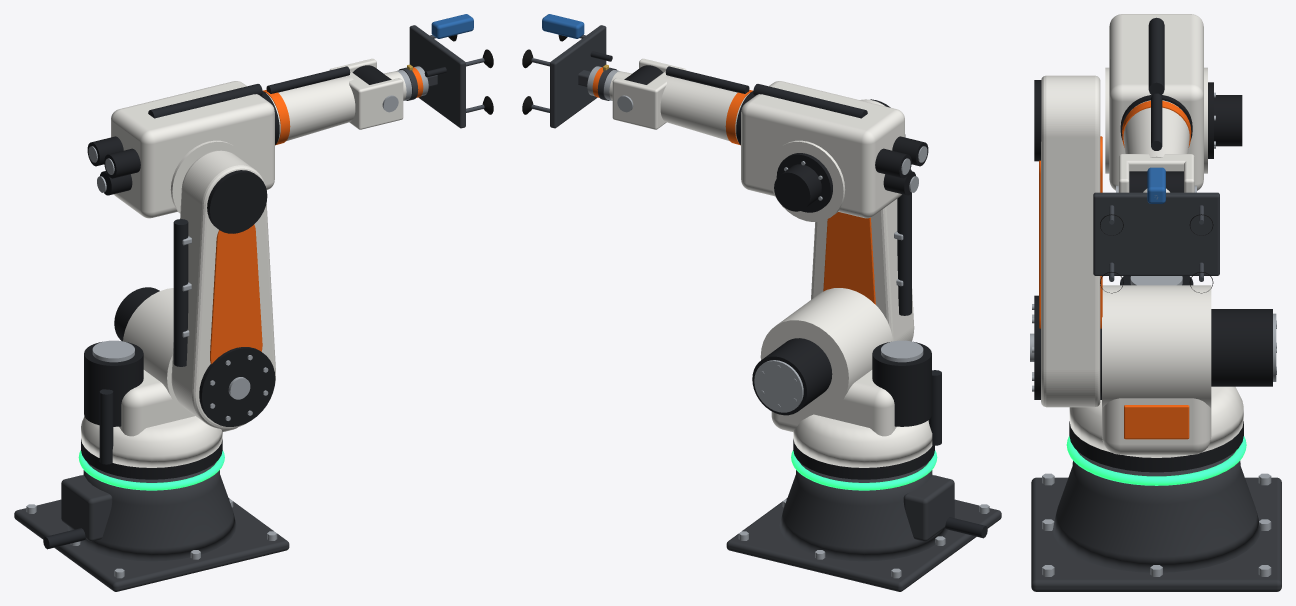
The model's file is robot_assembly.glb.
The picture shows the model from 3 angles, left to right: view 1: azimuth 30°, elevation 25°; view 2: azimuth 150°, elevation 25°; view 3: azimuth 270°, elevation 25°; orthographic projection. The views are drawn at different scales.
Visible parts, largest first — view 1: Pedestal_base, Link3_body, Link1_body, Link2_body, Link2_joint, Link4_body, Link2_accent, Link1_joint, ScrewGripper_dark, Link2_hose, Link3_joint, Pedestal_joint (+7 smaller); view 2: Pedestal_base, Link1_body, Link3_body, Link1_joint, Link4_body, Link3_joint, Link2_body, Link2_accent, ScrewGripper_dark, Link1_steel, Pedestal_joint, Link2_hose (+5 smaller); view 3: Pedestal_base, Link1_body, Link2_body, ScrewGripper_dark, Link3_body, Link1_joint, Link4_body, Pedestal_joint, Link1_accent, StatusRing, Link3_joint, Link2_joint (+10 smaller).
Part boxes in pixels (bbox=[...]): Pedestal_base: bbox=[14, 461, 289, 591]; Link3_body: bbox=[111, 81, 274, 218]; Link1_body: bbox=[81, 288, 237, 467]; Link2_body: bbox=[171, 150, 275, 429]; Link2_joint: bbox=[199, 170, 275, 426]; Link4_body: bbox=[266, 58, 403, 141]; Link2_accent: bbox=[210, 224, 262, 364]; Link1_joint: bbox=[84, 287, 159, 426]; ScrewGripper_dark: bbox=[409, 25, 465, 128]; Link2_hose: bbox=[173, 219, 188, 366]; Link3_joint: bbox=[87, 136, 140, 195]; Pedestal_joint: bbox=[81, 439, 222, 479]; Pedestal_base: bbox=[726, 461, 1001, 591]; Link1_body: bbox=[760, 288, 932, 467]; Link3_body: bbox=[741, 81, 904, 221]; Link1_joint: bbox=[752, 338, 931, 426]; Link4_body: bbox=[612, 58, 749, 141]; Link3_joint: bbox=[774, 136, 928, 212]; Link2_body: bbox=[811, 99, 914, 341]; Link2_accent: bbox=[823, 212, 875, 304]; ScrewGripper_dark: bbox=[550, 25, 606, 128]; Link1_steel: bbox=[754, 340, 923, 412]; Pedestal_joint: bbox=[793, 439, 934, 479]; Link2_hose: bbox=[897, 169, 911, 315]; Pedestal_base: bbox=[1031, 450, 1281, 591]; Link1_body: bbox=[1069, 285, 1243, 457]; Link2_body: bbox=[1041, 75, 1100, 407]; ScrewGripper_dark: bbox=[1093, 192, 1219, 275]; Link3_body: bbox=[1105, 14, 1207, 190]; Link1_joint: bbox=[1120, 276, 1272, 386]; Link4_body: bbox=[1118, 100, 1194, 192]; Pedestal_joint: bbox=[1069, 421, 1243, 472]; Link1_accent: bbox=[1124, 405, 1189, 439]; StatusRing: bbox=[1066, 436, 1246, 485]; Link3_joint: bbox=[1208, 82, 1242, 158]; Link2_joint: bbox=[1034, 80, 1101, 399].
Size of the model in its own units: 2.33 by 2.28 by 0.955.
